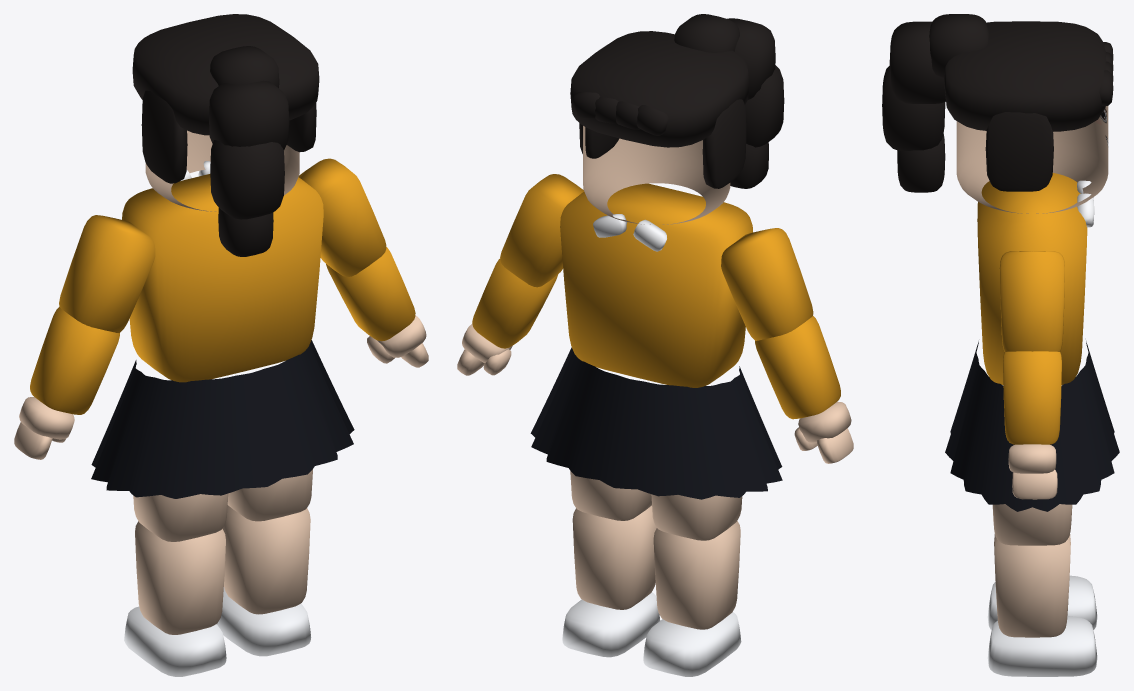
Rendered from Mia_v2.glb.
3 views of the same model, side by side, from view 1: azimuth 30°, elevation 25°; view 2: azimuth 150°, elevation 25°; view 3: azimuth 270°, elevation 25° (orthographic). The views are drawn at different scales.
Parts seen in each view (by area): view 1: Head, UpperTorso, LowerTorso, LeftLowerLeg, LeftUpperArm, RightLowerLeg, LeftLowerArm, RightUpperArm, RightLowerArm, LeftFoot, RightFoot, LeftUpperLeg (+3 smaller); view 2: Head, UpperTorso, LowerTorso, LeftLowerLeg, LeftUpperArm, RightLowerLeg, LeftLowerArm, RightUpperArm, LeftFoot, RightFoot, RightLowerArm, LeftUpperLeg (+3 smaller); view 3: Head, LowerTorso, UpperTorso, RightLowerLeg, RightUpperArm, RightLowerArm, RightFoot, RightUpperLeg, RightHand, LeftFoot.
Boxes of the visible parts, bbox=[...] form: Head: bbox=[132, 14, 319, 256]; UpperTorso: bbox=[122, 161, 323, 382]; LowerTorso: bbox=[91, 340, 354, 498]; LeftLowerLeg: bbox=[135, 521, 225, 634]; LeftUpperArm: bbox=[59, 215, 155, 332]; RightLowerLeg: bbox=[222, 505, 310, 614]; LeftLowerArm: bbox=[30, 307, 119, 414]; RightUpperArm: bbox=[298, 158, 386, 276]; RightLowerArm: bbox=[326, 247, 415, 341]; LeftFoot: bbox=[124, 606, 226, 676]; RightFoot: bbox=[216, 587, 311, 656]; LeftUpperLeg: bbox=[133, 493, 228, 541]; Head: bbox=[570, 14, 784, 224]; UpperTorso: bbox=[560, 183, 752, 387]; LowerTorso: bbox=[530, 347, 782, 499]; LeftLowerLeg: bbox=[653, 521, 740, 629]; LeftUpperArm: bbox=[721, 228, 813, 340]; RightLowerLeg: bbox=[572, 505, 656, 609]; LeftLowerArm: bbox=[755, 316, 840, 419]; RightUpperArm: bbox=[500, 174, 583, 287]; LeftFoot: bbox=[643, 612, 741, 676]; RightFoot: bbox=[562, 592, 660, 657]; RightLowerArm: bbox=[472, 258, 558, 348]; LeftUpperLeg: bbox=[651, 494, 742, 540]; Head: bbox=[882, 14, 1113, 213]; LowerTorso: bbox=[945, 341, 1119, 511]; UpperTorso: bbox=[977, 173, 1094, 384]; RightLowerLeg: bbox=[994, 534, 1070, 637]; RightUpperArm: bbox=[999, 251, 1064, 351]; RightLowerArm: bbox=[1003, 351, 1061, 444]; RightFoot: bbox=[987, 616, 1097, 676]; RightUpperLeg: bbox=[992, 504, 1072, 545]; RightHand: bbox=[1008, 444, 1057, 499]; LeftFoot: bbox=[987, 575, 1097, 629].
Size of the model in its own units: 3.59 by 5.38 by 1.88.
1 material, 1 textured.
